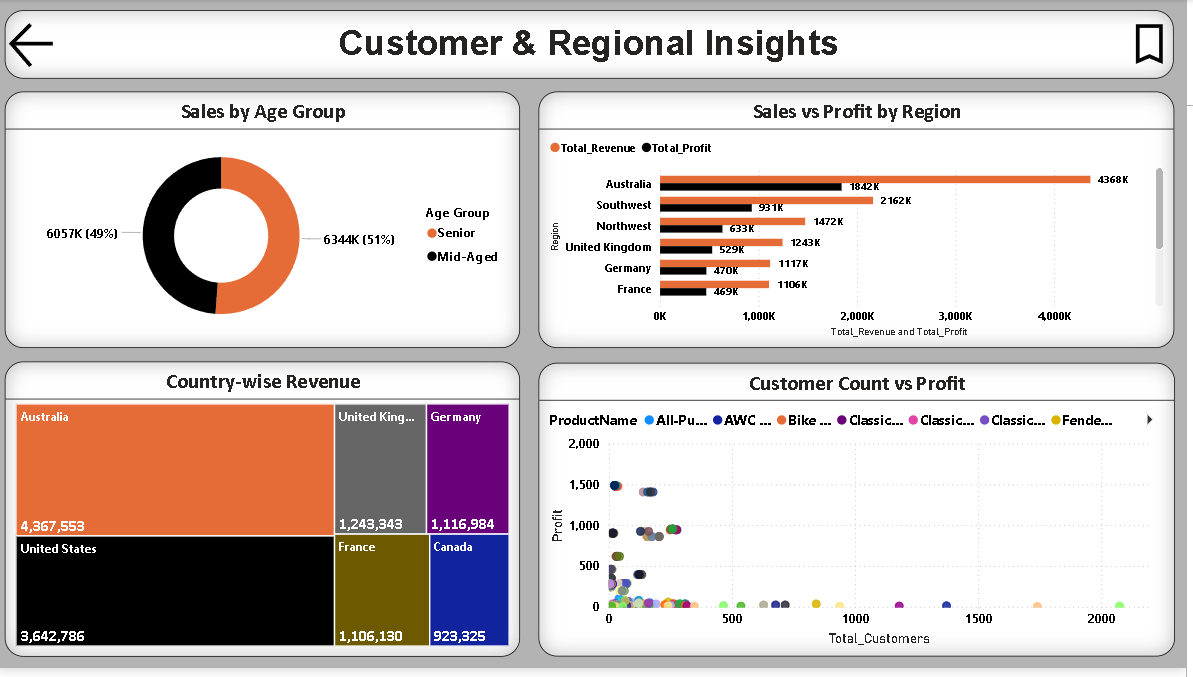

Layout of this report page (visuals, bound fields, positions):
{"tool":"powerbi","page":{"name":"Customer & Regional Insights","canvas":[1280,720],"ordinal":18},"visuals":[{"type":"textbox","box":[10.1,11.5,1257.3,73.3],"z":0},{"type":"donutChart","title":"Sales by Age Group","fields":{"Y":["Fact_Sales.Total_Revenue"],"Category":["Dim_Customers.Age Group"]},"box":[10.1,99.1,554.6,275.9],"z":1000},{"type":"treemap","title":"Country-wise Revenue","fields":{"Group":["Dim_Territories.Country"],"Values":["Fact_Sales.Total_Revenue"]},"box":[10.1,389.4,554.6,317.6],"z":2000},{"type":"clusteredBarChart","title":"Sales vs Profit by Region","fields":{"Y":["Fact_Sales.Total_Revenue","Fact_Sales.Total_Profit"],"Category":["Dim_Territories.Region"]},"box":[583.4,99.1,684,275.9],"z":3000},{"type":"scatterChart","title":"Customer Count vs Profit","fields":{"Y":["Fact_Sales.Profit"],"X":["Fact_Sales.Total_Customers"],"Series":["Dim_Products.ProductName"]},"box":[583.7,391.3,684.5,316],"z":4000},{"type":"actionButton","box":[1214.2,0,53.2,96.3],"z":5000},{"type":"actionButton","box":[10.1,20.1,64.7,58.9],"z":6000}]}

Visuals, with their boxes in screenshot pixels (x1, y1, x2, y2), scaled from the page's 1280x720 canvas onto the 1193x677 screenshot:
textbox: 9 11 1181 80
"Sales by Age Group" donutChart: 9 93 526 353
"Country-wise Revenue" treemap: 9 366 526 665
"Sales vs Profit by Region" clusteredBarChart: 544 93 1181 353
"Customer Count vs Profit" scatterChart: 544 368 1182 665
actionButton: 1132 0 1181 91
actionButton: 9 19 70 74
